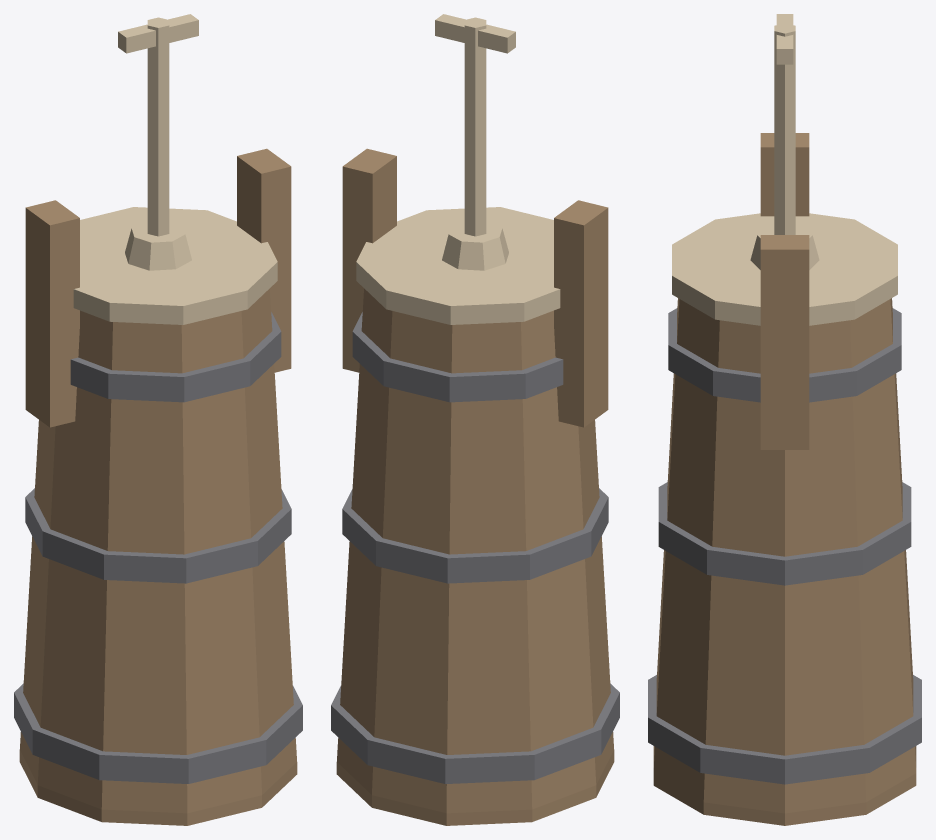
The model's file is prop-butter-churn-wood.glb.
The picture shows the model from 3 angles, left to right: view 1: azimuth 30°, elevation 25°; view 2: azimuth 150°, elevation 25°; view 3: azimuth 270°, elevation 25°; orthographic projection.
Visible parts, largest first — view 1: prop-butter-churn-wood; view 2: prop-butter-churn-wood; view 3: prop-butter-churn-wood.
Boxes of the visible parts, box(x1,y1,x2,y2) form: prop-butter-churn-wood: box(14, 14, 302, 825); prop-butter-churn-wood: box(331, 14, 619, 825); prop-butter-churn-wood: box(648, 14, 921, 825).
Size of the model in its own units: 0.4166 by 1.18 by 0.3962.
